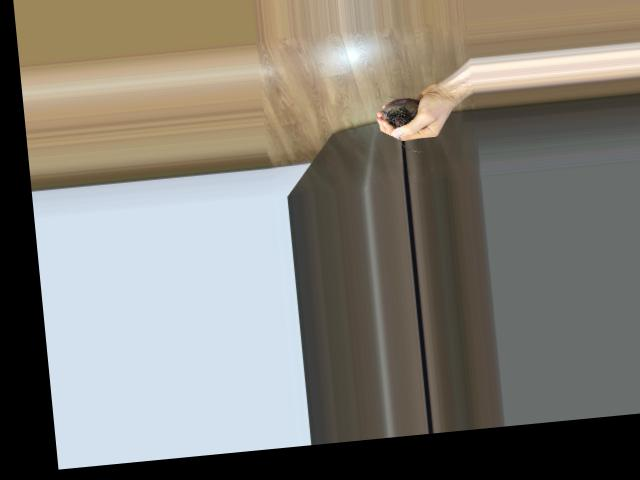beet: (379, 96, 424, 155)
